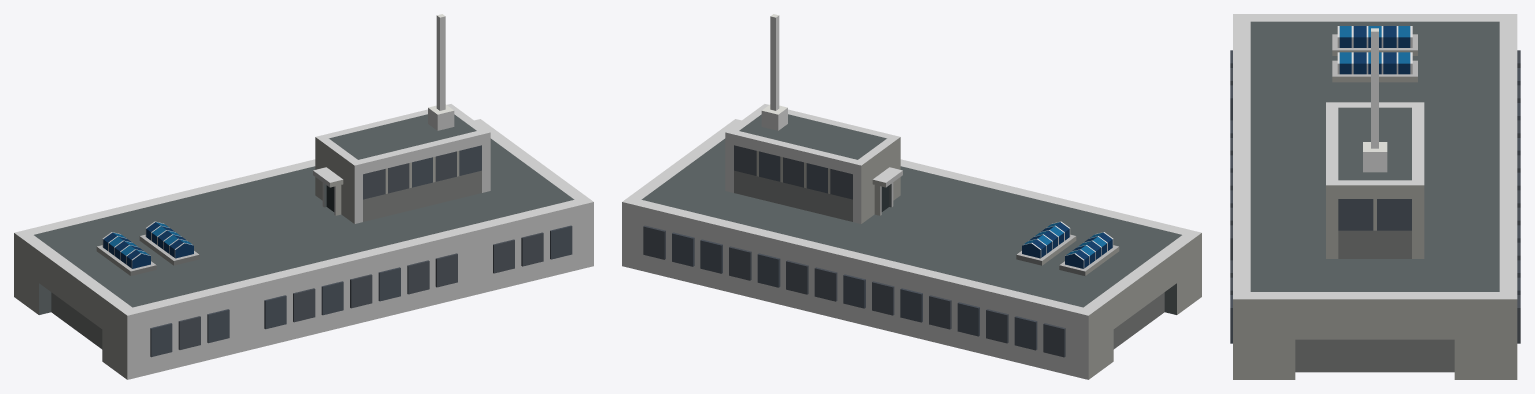
File: TB_CITY_Skysc_J_Top_Gray.FBX
3 views of the same model, side by side, from view 1: azimuth 30°, elevation 25°; view 2: azimuth 150°, elevation 25°; view 3: azimuth 270°, elevation 25° (orthographic). The views are drawn at different scales.
Parts seen in each view (by area): view 1: TB_CITY_Skysc_J_Top_Gray; view 2: TB_CITY_Skysc_J_Top_Gray; view 3: TB_CITY_Skysc_J_Top_Gray.
Part boxes in pixels (left/top/right/bottom): TB_CITY_Skysc_J_Top_Gray: left=14, top=14, right=593, bottom=379; TB_CITY_Skysc_J_Top_Gray: left=622, top=14, right=1201, bottom=379; TB_CITY_Skysc_J_Top_Gray: left=1230, top=14, right=1520, bottom=379.
Size of the model in its own units: 38 by 18.08 by 16.35.
